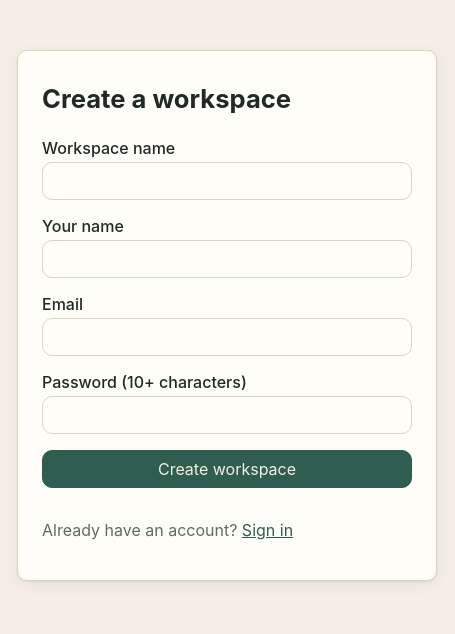
it: register page › shows an error when sign-in after registration fails
This screenshot has width=455, height=634.
In the field labelled "Workspace name": (227, 180) top-left (42, 162), bottom-right (412, 200), type "Acme"
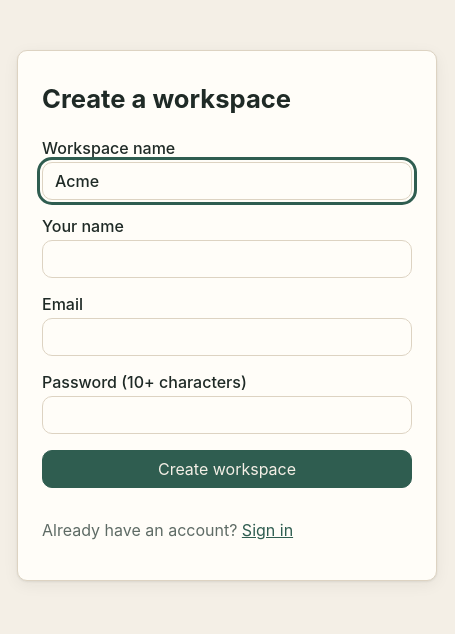
In the field labelled "Your name": (227, 258) top-left (42, 240), bottom-right (412, 278), type "Ada"
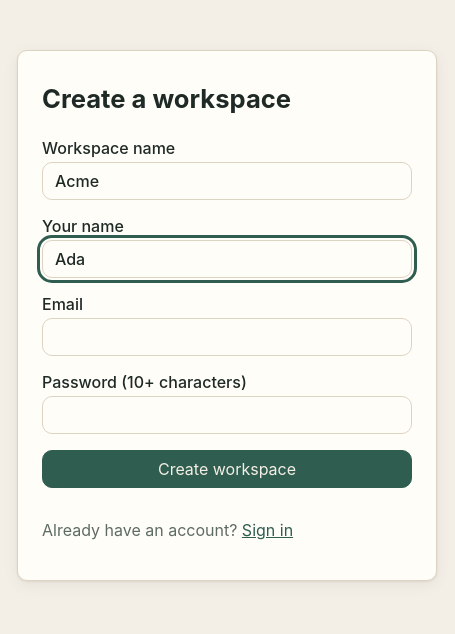
In the field labelled "Email": (227, 336) top-left (42, 318), bottom-right (412, 356), type "ada@acme.test"
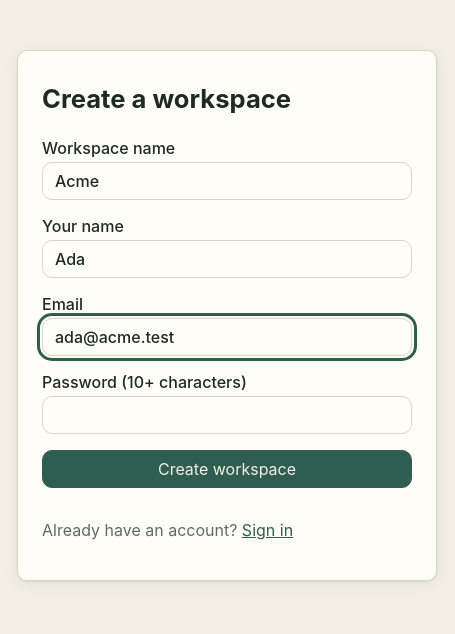
In the password field labelled "Password (10+ characters)": (227, 414) top-left (42, 396), bottom-right (412, 434), type "long-password-1"
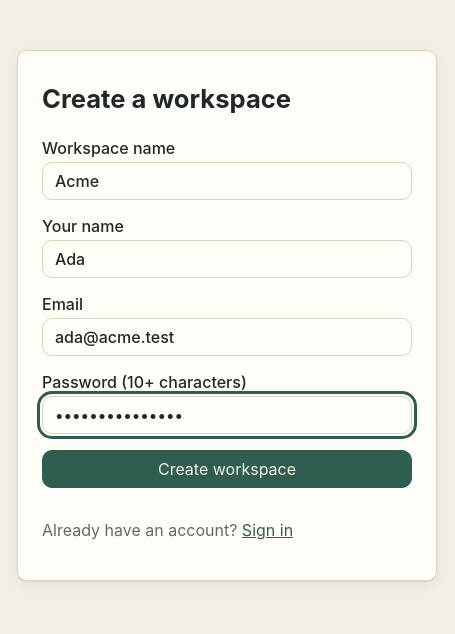
Click the button "Create workspace": (227, 468) top-left (42, 450), bottom-right (412, 488)
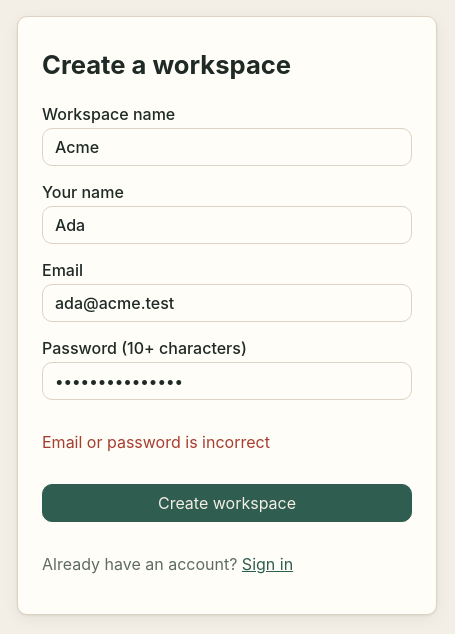
Result: the message reads "Email or password is incorrect" at top-left (42, 432), bottom-right (270, 452)
